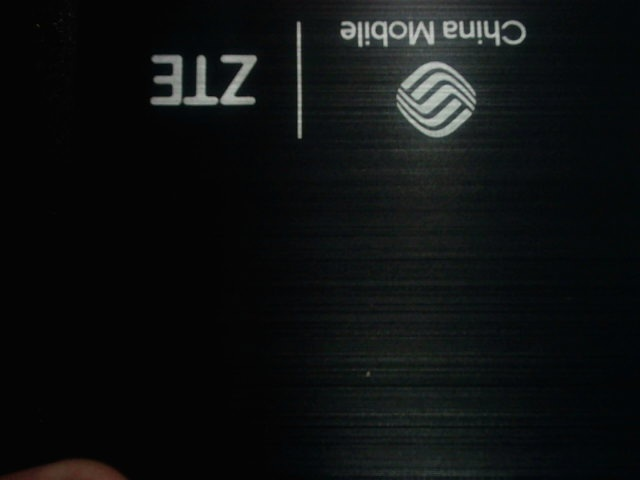AL_ZTEChinaMobile: (122, 11, 552, 150)
